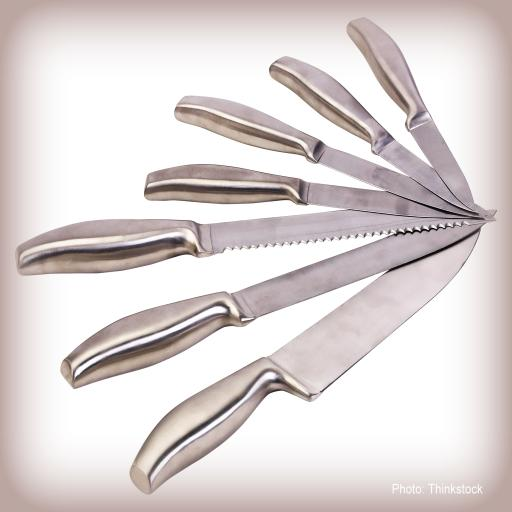knife: (107, 225, 479, 507)
